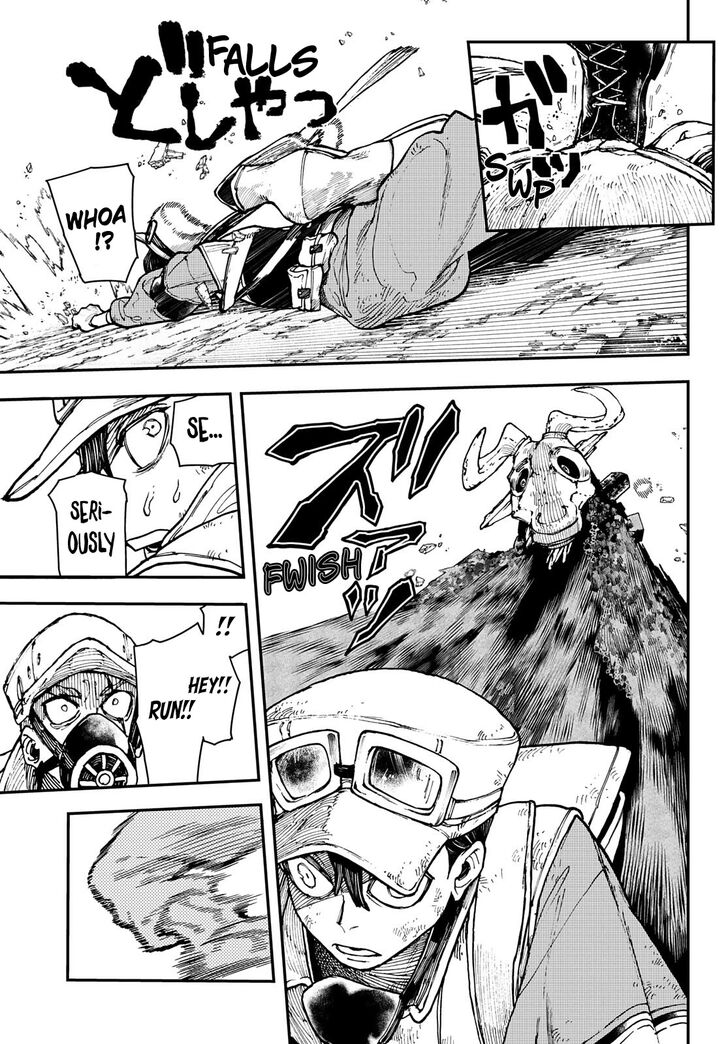bubble: (134, 604, 249, 785), (47, 164, 138, 282), (48, 471, 127, 577), (171, 393, 235, 467)
